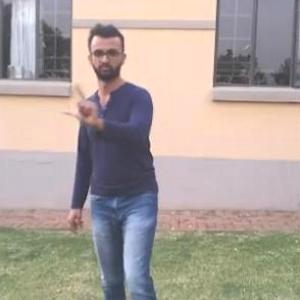land_hand: (59, 76, 105, 130)
